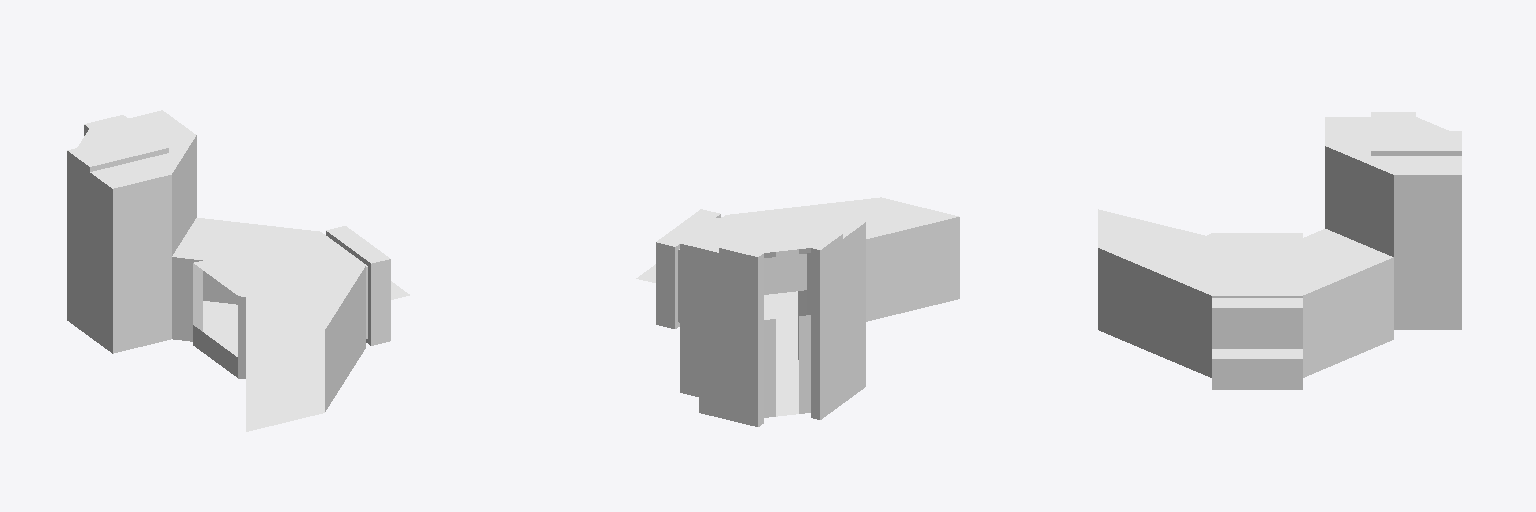
Rendered from map01_sect02.obj.
3 renders of one model, left to right at view 1: azimuth 30°, elevation 25°; view 2: azimuth 150°, elevation 25°; view 3: azimuth 270°, elevation 25°, orthographic.
Visible parts, largest first — view 1: MAP01; view 2: MAP01; view 3: MAP01.
Part boxes in pixels (x1,y1,x2,y2): MAP01: (67, 110, 409, 431); MAP01: (636, 197, 959, 426); MAP01: (1098, 112, 1461, 389).
Size of the model in its own units: 784 by 528 by 1024.